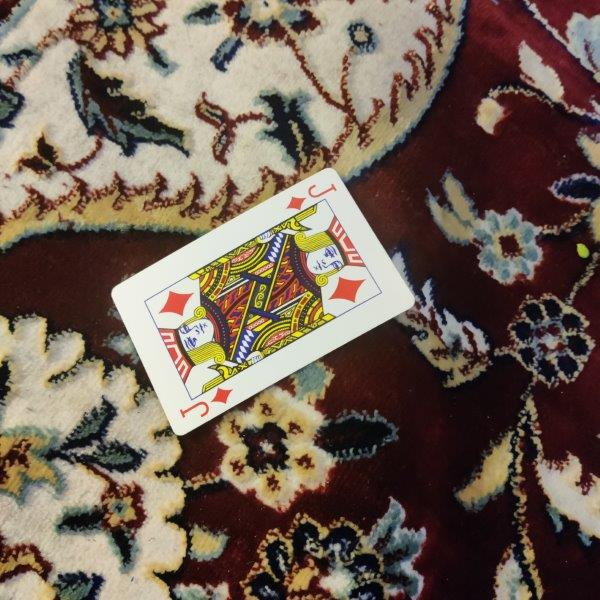Jack of Diamonds: (111, 167, 416, 437)
